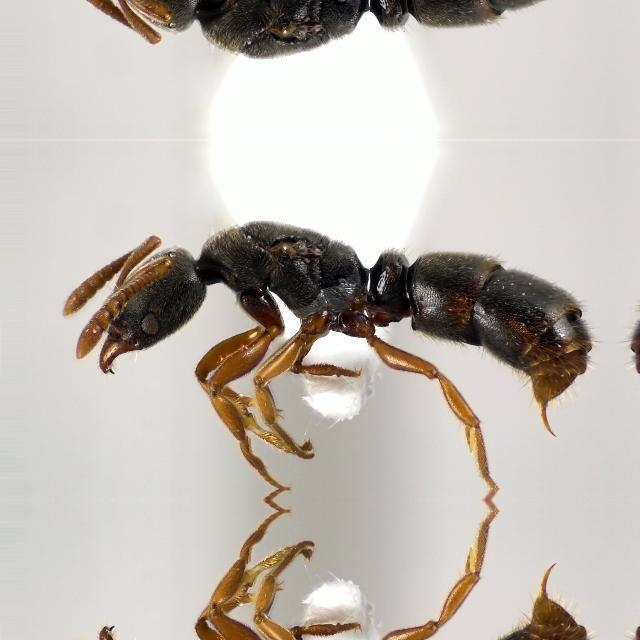Ponera: (69, 196, 595, 436), (69, 0, 595, 84), (69, 564, 595, 640)
